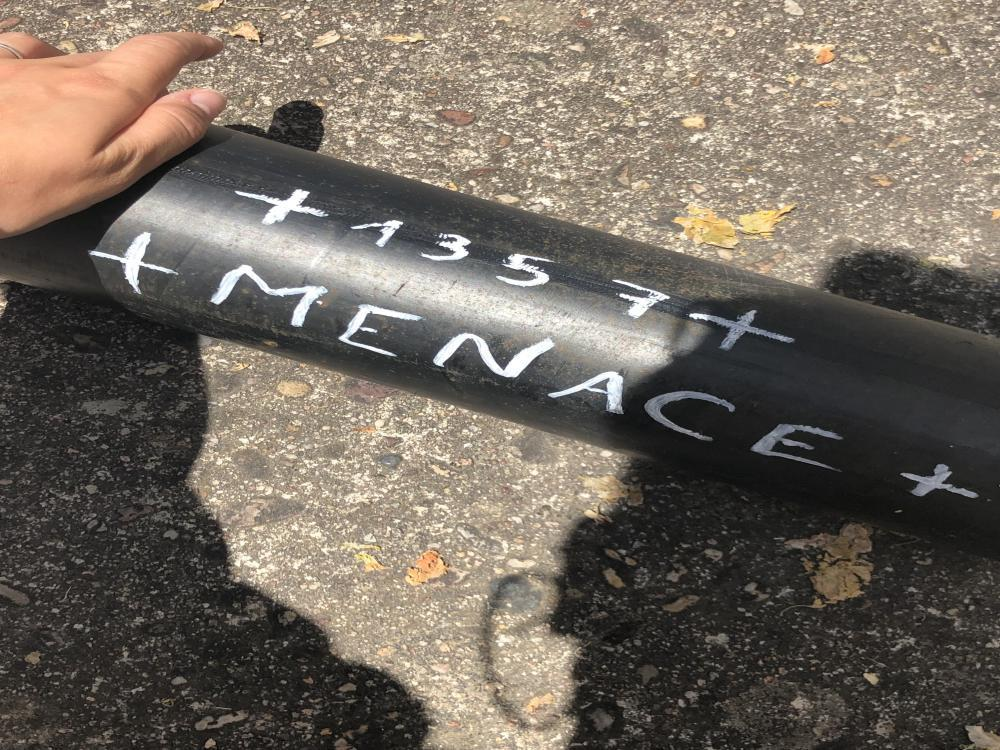+: (88, 232, 180, 294), (686, 310, 796, 351), (236, 188, 329, 224), (900, 464, 979, 500)
1: (351, 219, 405, 247)
3: (419, 233, 471, 262)
5: (497, 252, 556, 288)
7: (610, 278, 670, 318)
A: (547, 370, 625, 414)
C: (644, 390, 735, 442)
E: (750, 423, 844, 473), (340, 304, 422, 357)
M: (212, 264, 330, 328)
N: (434, 333, 556, 378)
